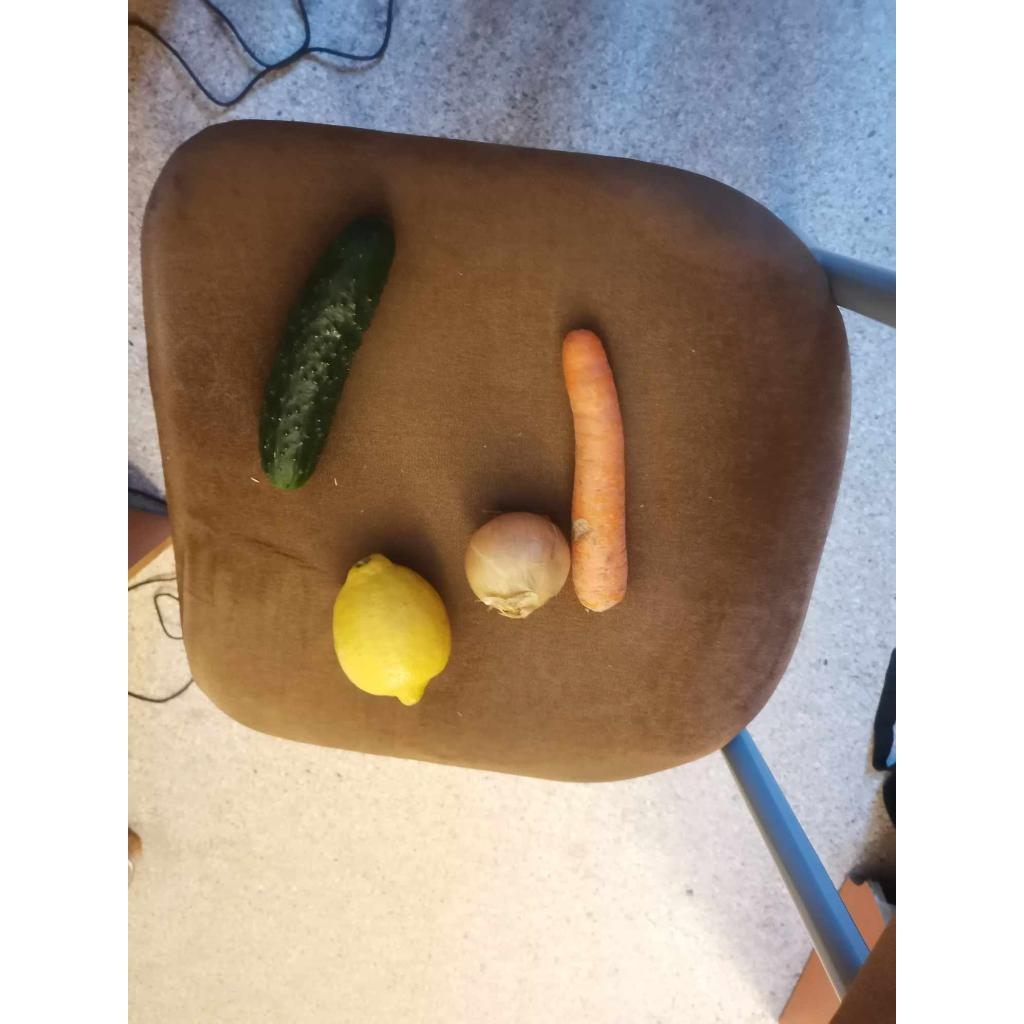carrot: (562, 330, 628, 612)
